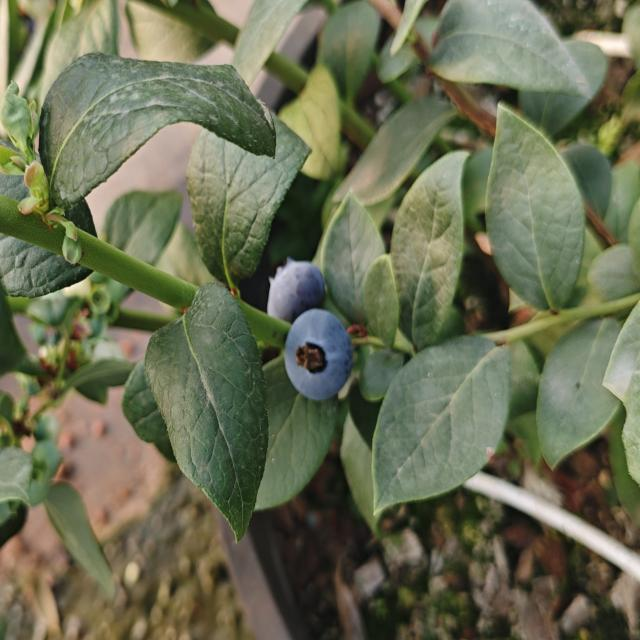ripe: (281, 307, 357, 405), (265, 257, 327, 325)
